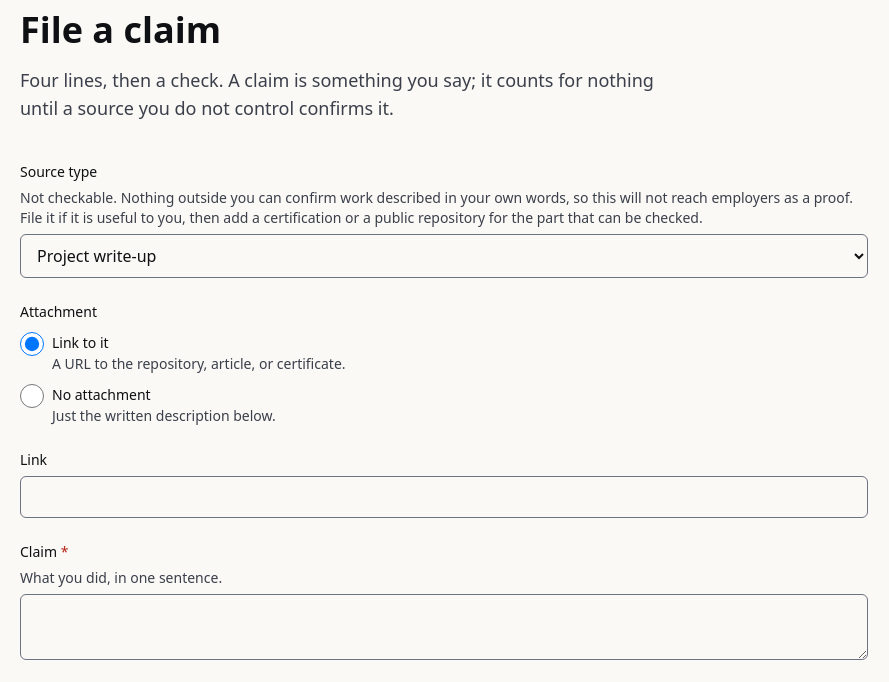
what the source type tells you about being checked › says how a repository gets checked once that is chosen
Select "GitHub / code repository" in the dropdown labelled "Source type" at (444, 256), box [20,234,868,278]
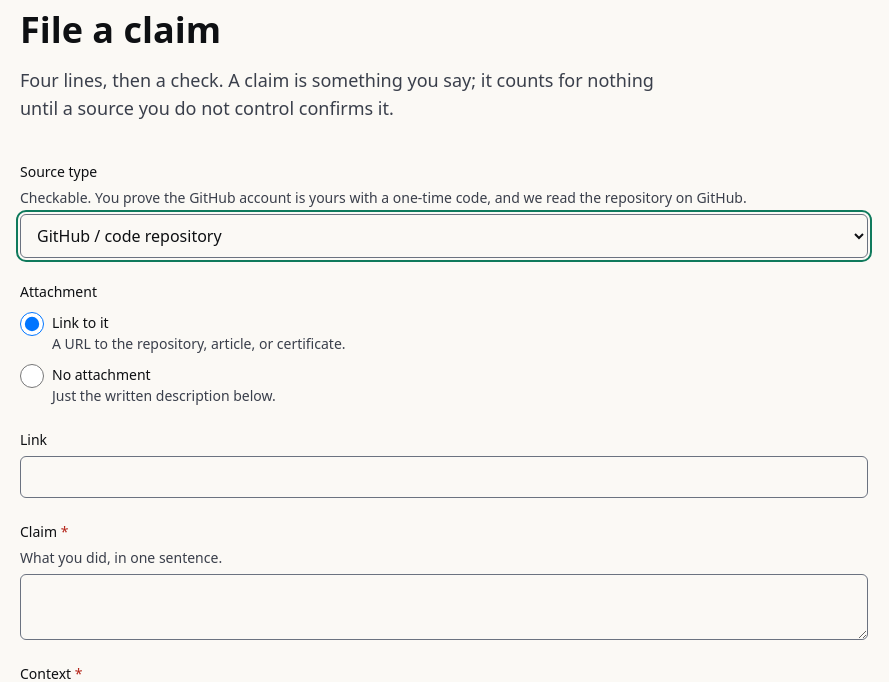
Expected: the text "prove the GitHub account is yours" is shown, [20,188,747,207]
